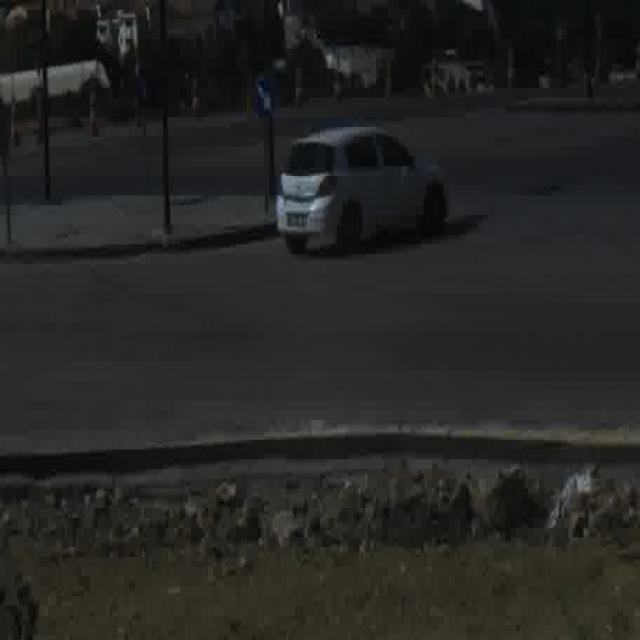Car: (276, 123, 448, 255)
